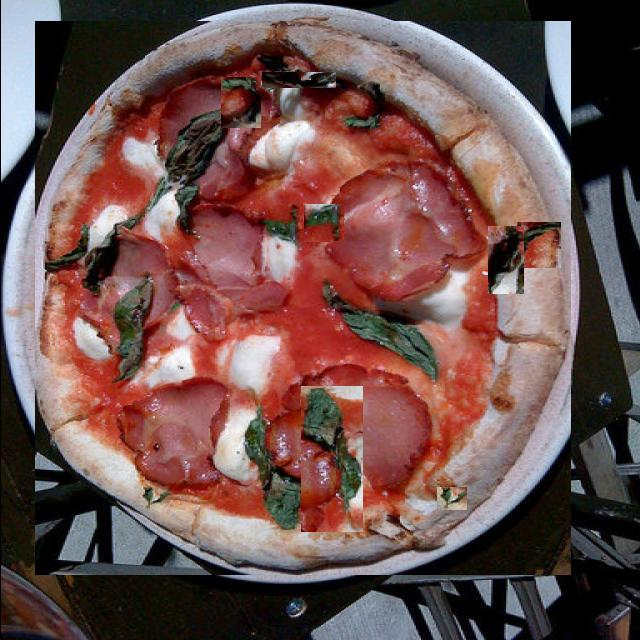basil: (162, 278, 282, 382), (372, 106, 441, 238), (300, 386, 362, 532), (452, 274, 492, 386), (439, 176, 488, 228), (487, 226, 523, 294), (220, 78, 260, 130), (516, 222, 560, 268), (303, 204, 343, 242), (261, 72, 335, 88), (436, 487, 466, 510), (316, 54, 349, 73)
pizza: (34, 21, 570, 575)
